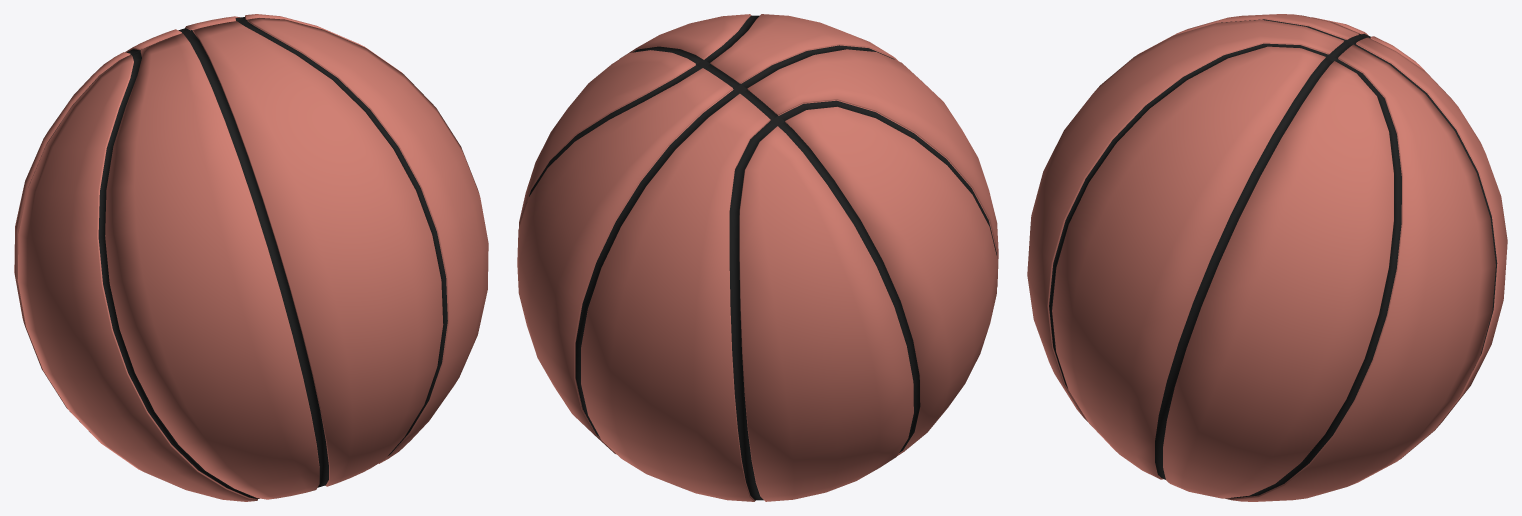
The picture shows the model from 3 angles, left to right: view 1: azimuth 30°, elevation 25°; view 2: azimuth 150°, elevation 25°; view 3: azimuth 270°, elevation 25°; orthographic projection.
Parts seen in each view (by area): view 1: Sphere.004; view 2: Sphere.004; view 3: Sphere.004.
Part boxes in pixels (left/top/right/bottom): Sphere.004: left=14, top=14, right=488, bottom=501; Sphere.004: left=517, top=14, right=998, bottom=501; Sphere.004: left=1027, top=14, right=1507, bottom=501.
Size of the model in its own units: 1.13 by 1.16 by 1.14.
